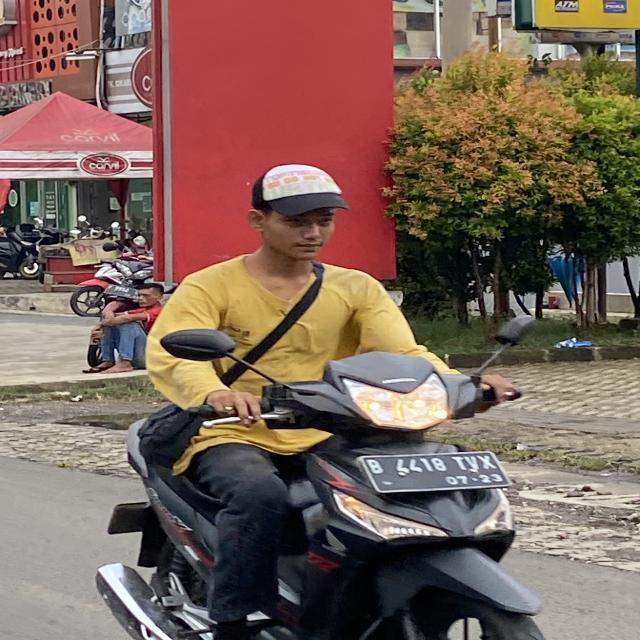Number Plate: (359, 452, 510, 492), (105, 285, 137, 300)
Rearview Mirror: (160, 329, 235, 360), (495, 315, 536, 346), (102, 242, 118, 251)
